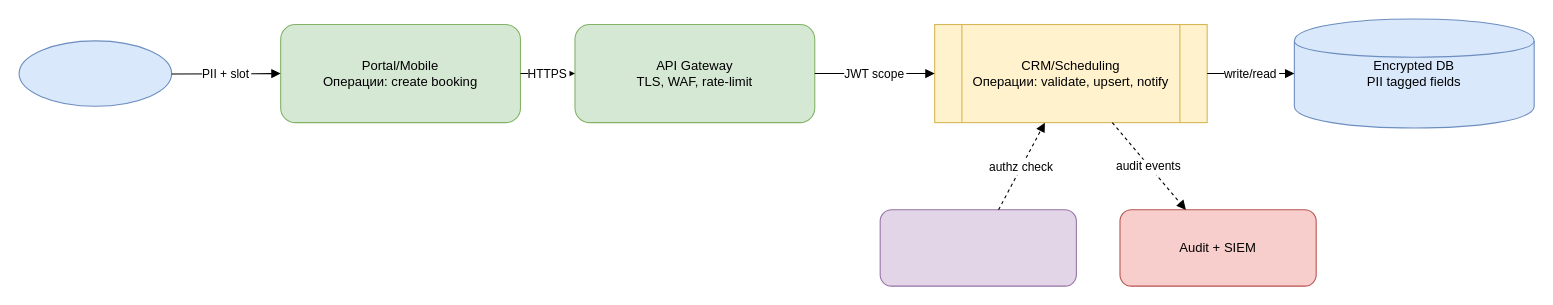
Some shapes in this 1553 by 305 pixel diagram are drawn without their labels. The centre of each missing label's shape, as x and y in pixels:
"IAM RBAC/ABAC" belongs at (977,247).
"Пациент" belongs at (95,73).
